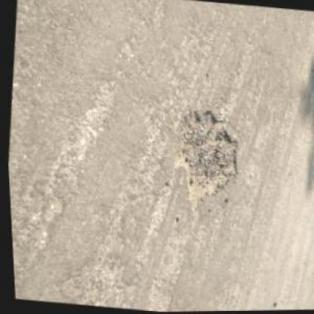Hueco: (162, 104, 245, 216)
